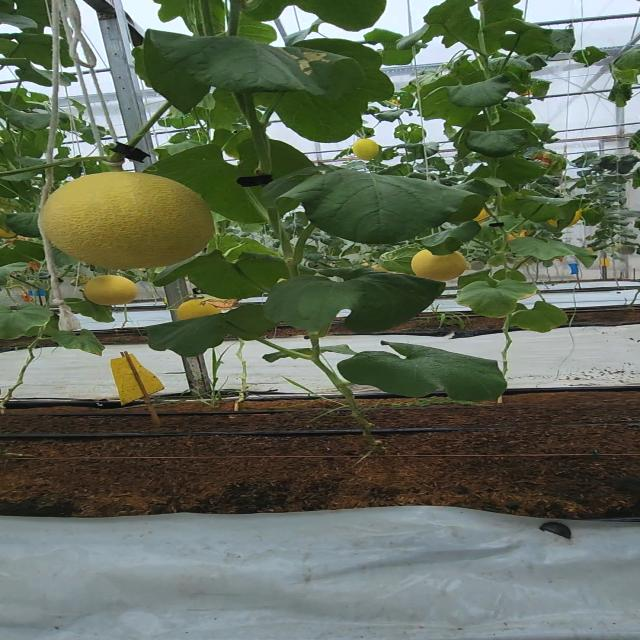Front-melon: (40, 171, 214, 267)
Rear-melon: (82, 274, 138, 304), (413, 255, 467, 281), (176, 301, 219, 320)
